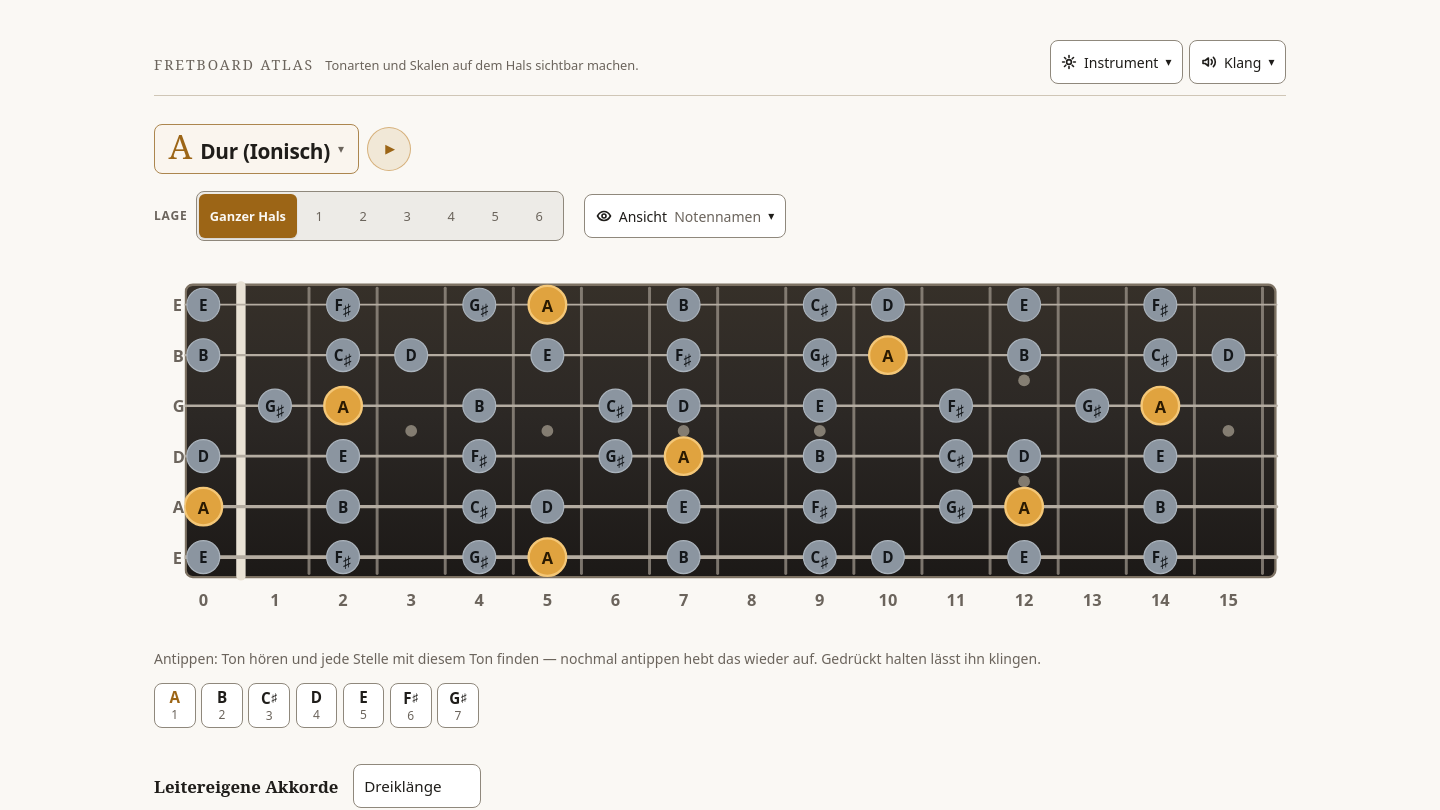
Test case: App — Hervorhebung › lässt Escape bei offenem Setup nur das Panel schließen, die Hervorhebung bleibt
Click the button with class "degree-chip" showing "C 3" at [269, 706], box [248,683,290,728]
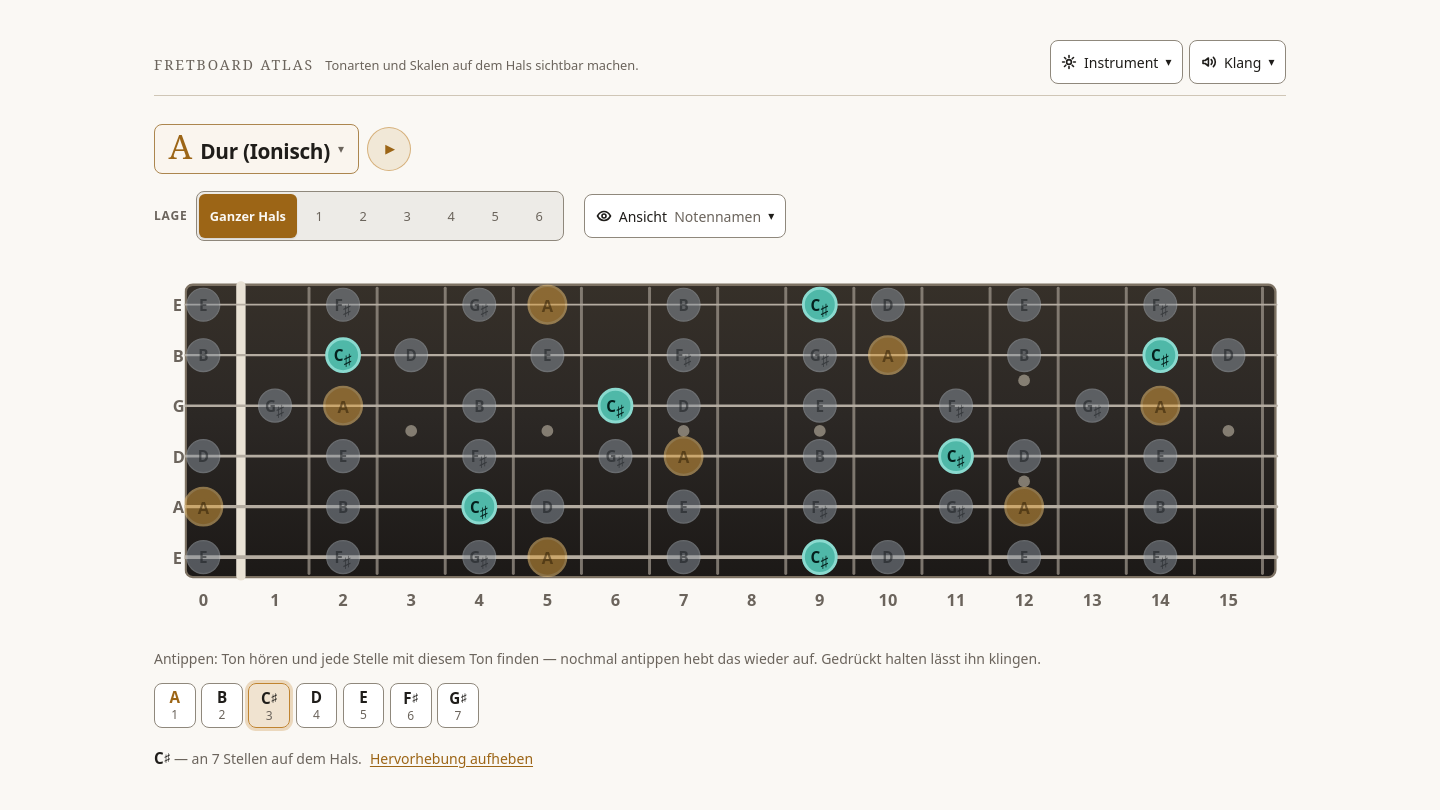
Click the button with class "setup-trigger" at [1116, 62], box [1050,40,1183,84]
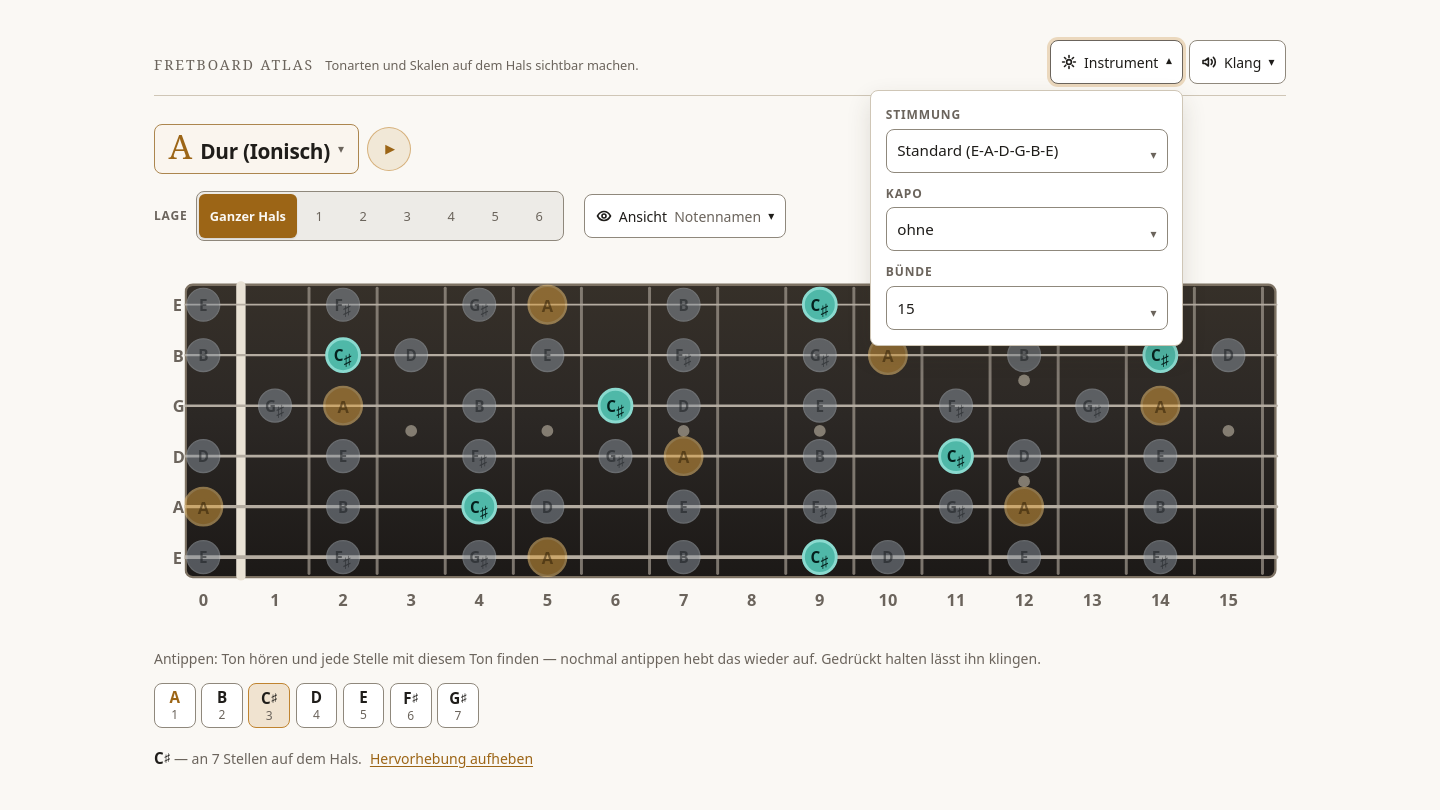
Press Escape
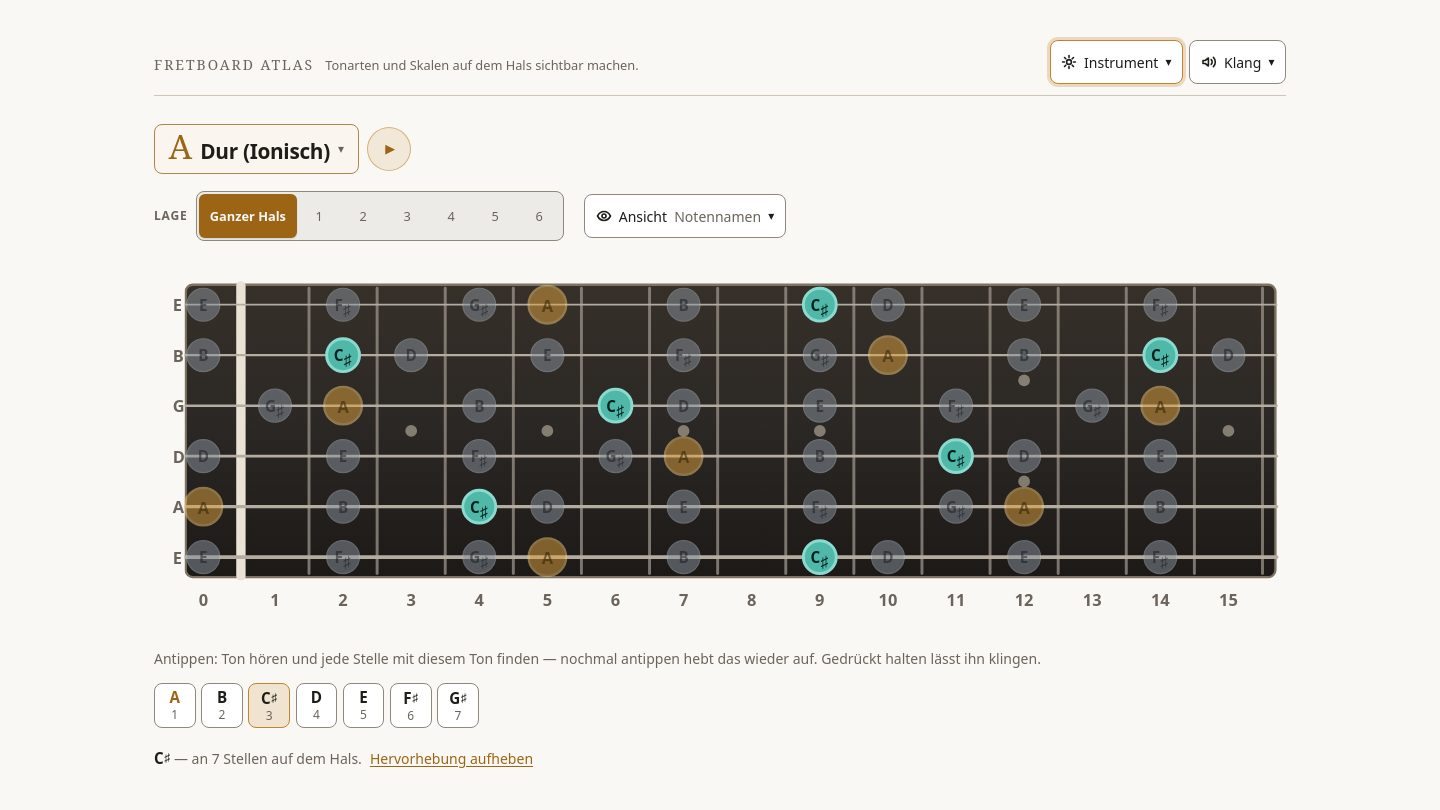
expect the element with class "note-dot--picked" is shown: met, box [803,541,836,574]
expect no elements with class "setup-panel" are shown: met
